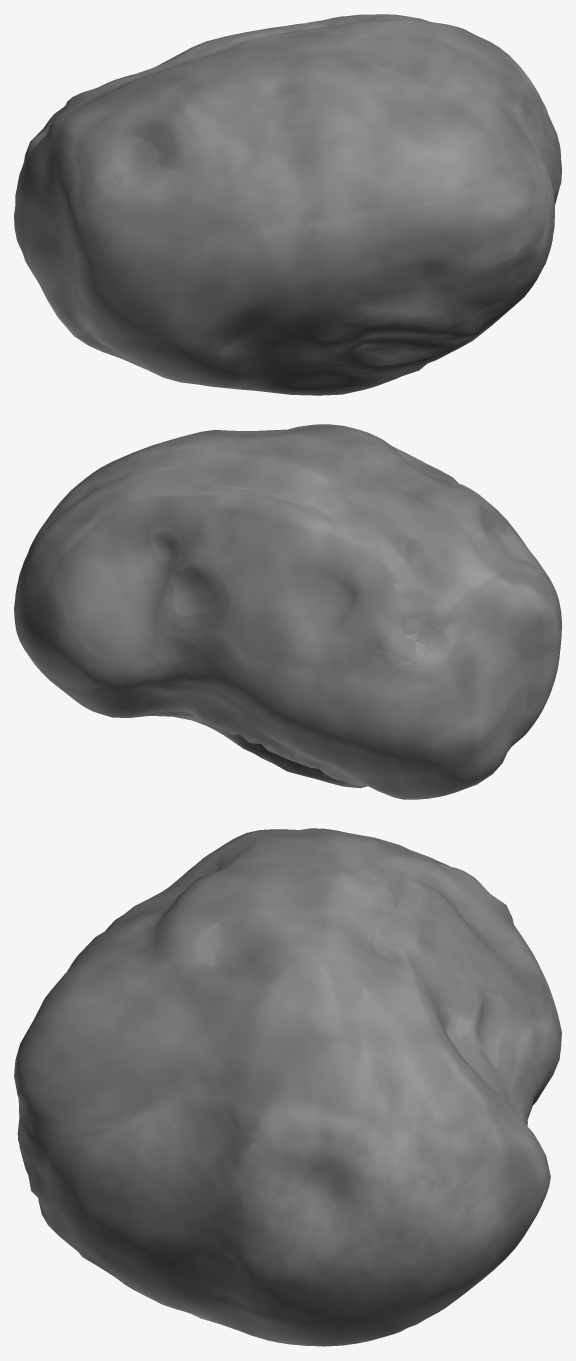
File: Asteroid01.gltf
3 renders of one model, top to bottom at view 1: azimuth 30°, elevation 25°; view 2: azimuth 150°, elevation 25°; view 3: azimuth 270°, elevation 25°, orthographic. The views are drawn at different scales.
Visible parts, largest first — view 1: Icosphere; view 2: Icosphere; view 3: Icosphere.
Boxes of the visible parts, x1,y1,x2,y2 form: Icosphere: (14,14,561,395); Icosphere: (14,424,561,799); Icosphere: (14,828,561,1346).
Bounding box in the file's own units: 3.06 × 1.9 × 2.4.
1 material, 1 textured.
